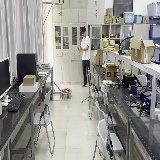fire: (62, 81, 67, 92)
